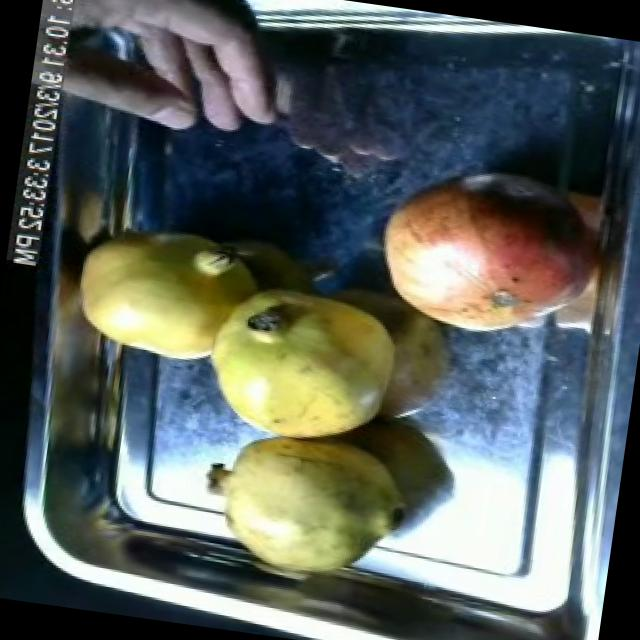fruit: (187, 264, 419, 458), (190, 418, 422, 600), (434, 169, 618, 333)
